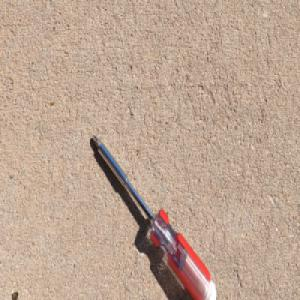Screwdriver: (91, 133, 217, 300)
